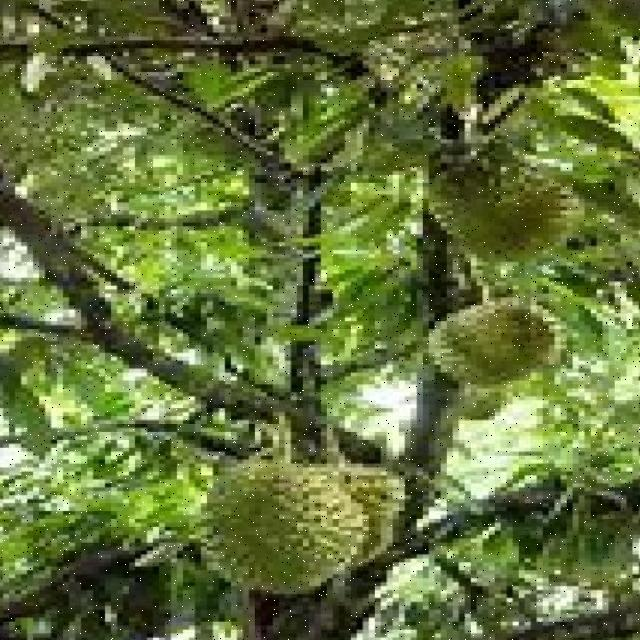UNRIPE: (192, 454, 396, 594), (422, 155, 585, 271), (426, 303, 564, 376)
